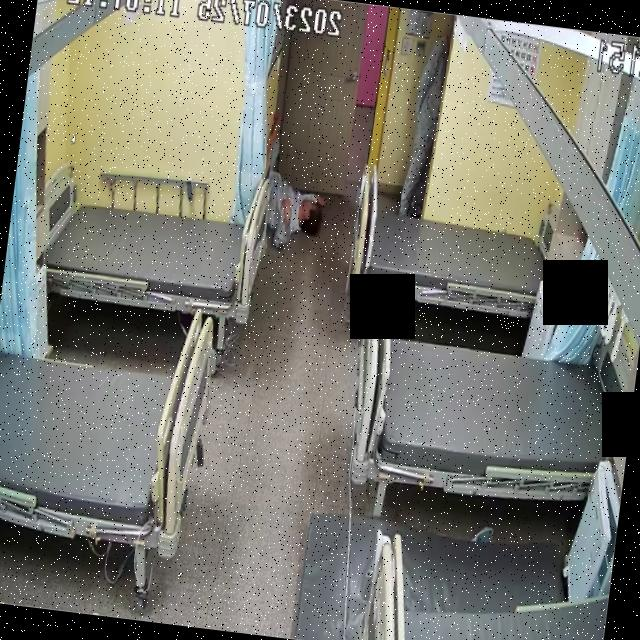bed: (0, 285, 220, 555), (344, 323, 624, 506), (25, 178, 272, 324), (349, 197, 549, 317)
fall: (256, 166, 325, 260)
patient: (394, 9, 452, 218), (256, 163, 327, 263)
